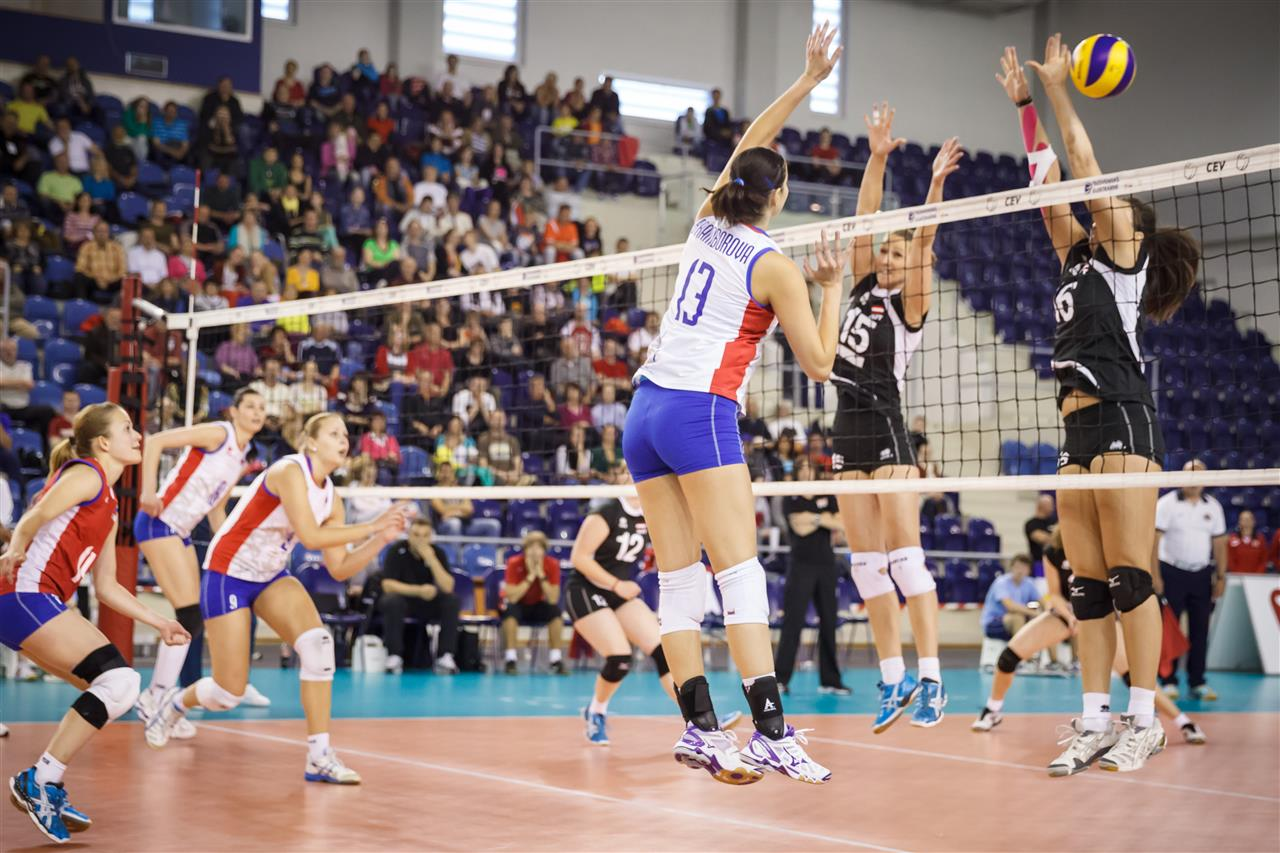volleyball: (1069, 30, 1137, 98)
